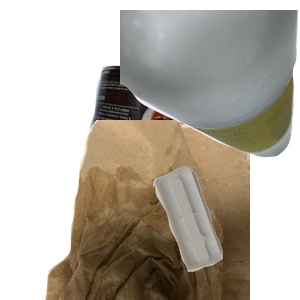glass: (120, 10, 300, 160)
metal: (78, 63, 266, 243)
plastic: (150, 163, 300, 300)
trash: (43, 120, 283, 300)
